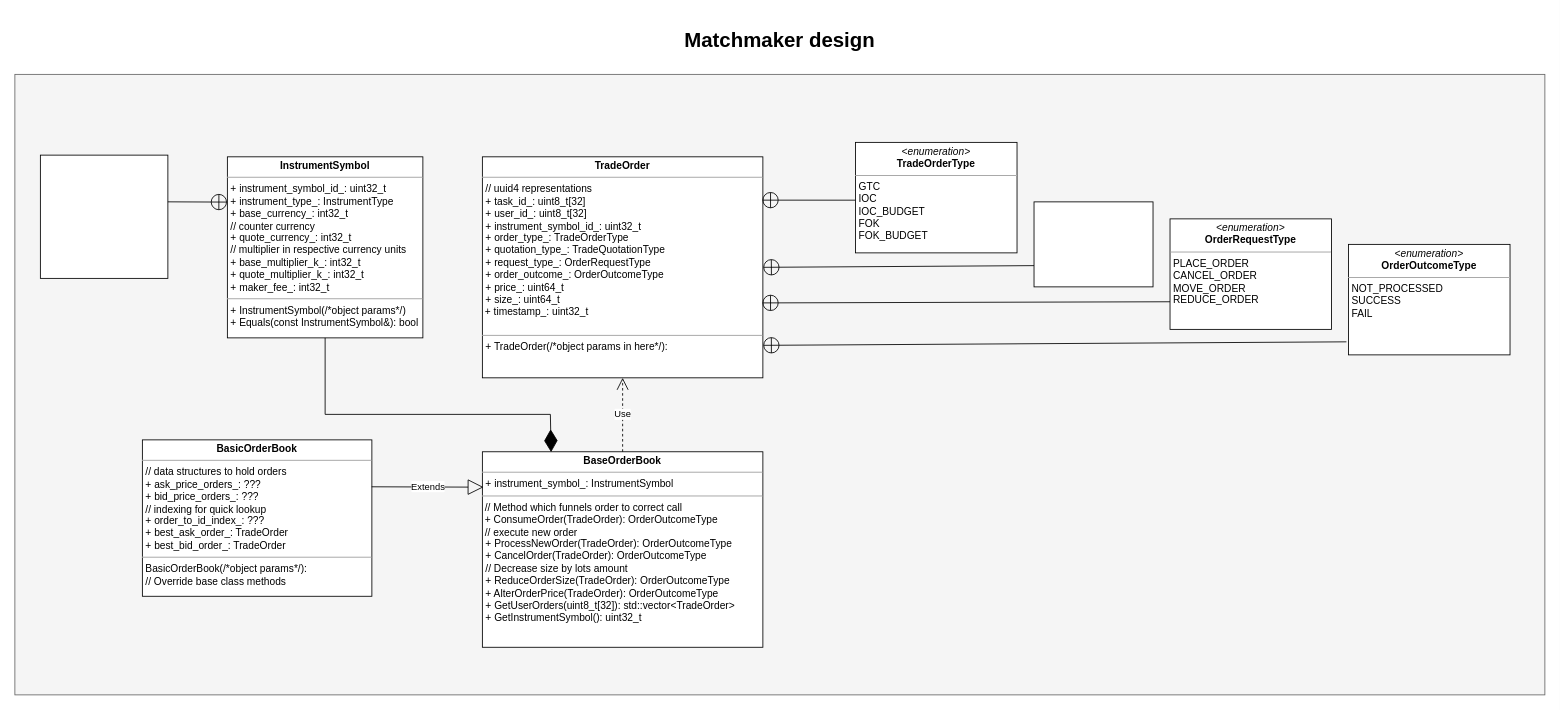
The diagram is 1560 pixels wide and 710 high, and some of its shapes have lost their labels. The centre of each missing label's shape, as x and y in pixels:
"<enumeration> InstrumentType CURRENCY_PAIR FUTURES_CONTRACT OPTION SHARE" goes at point 104,216.
"<enumeration> TradeQuotationType BID ASK" goes at point 1093,244.
